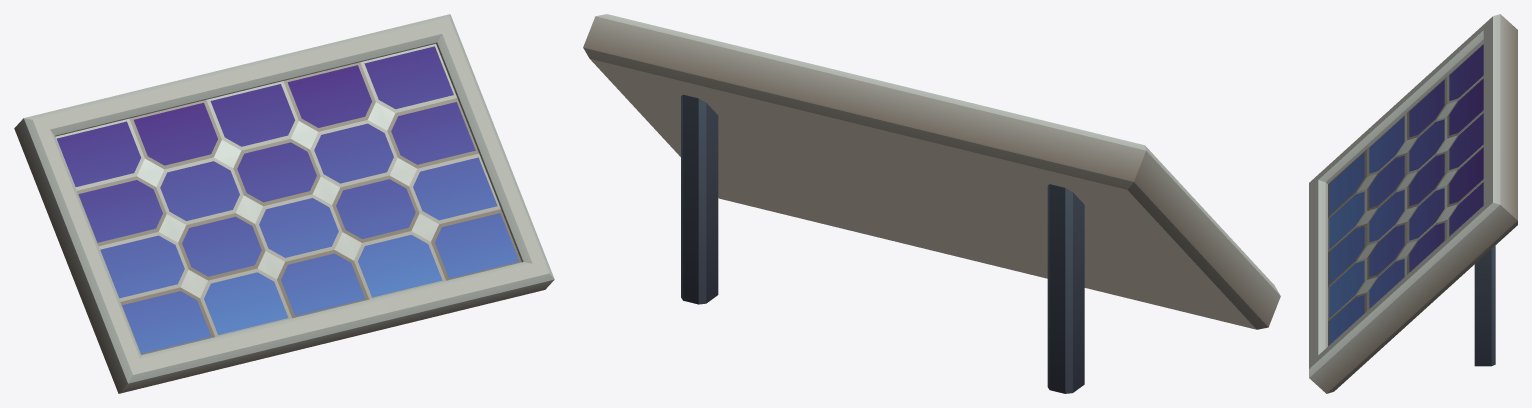
Rendered from sp_build_prop_solarpanel.fbx.
3 views of the same model, side by side, from view 1: azimuth 30°, elevation 25°; view 2: azimuth 150°, elevation 25°; view 3: azimuth 270°, elevation 25° (orthographic). The views are drawn at different scales.
Visible parts, largest first — view 1: build_prop_solarpanel; view 2: build_prop_solarpanel; view 3: build_prop_solarpanel.
Boxes of the visible parts, left/top/right/bottom form: build_prop_solarpanel: left=14, top=14, right=554, bottom=393; build_prop_solarpanel: left=583, top=14, right=1280, bottom=393; build_prop_solarpanel: left=1309, top=14, right=1517, bottom=393.
Size of the model in its own units: 222 by 102 by 102.
